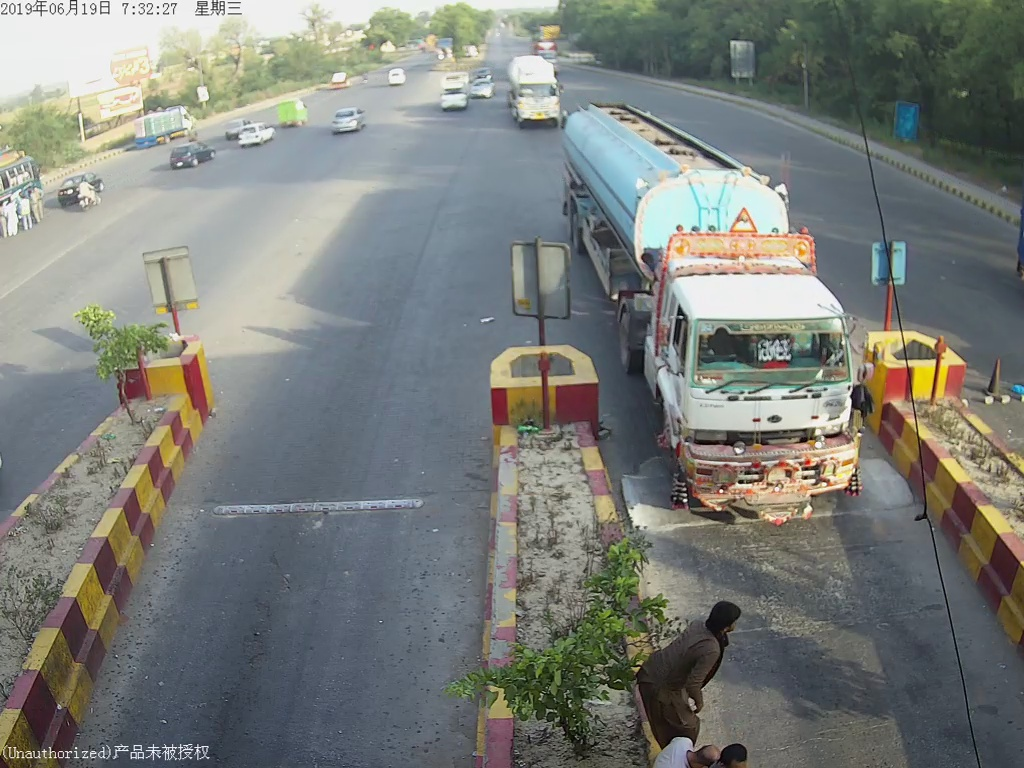Cat-5: (561, 105, 875, 512)
